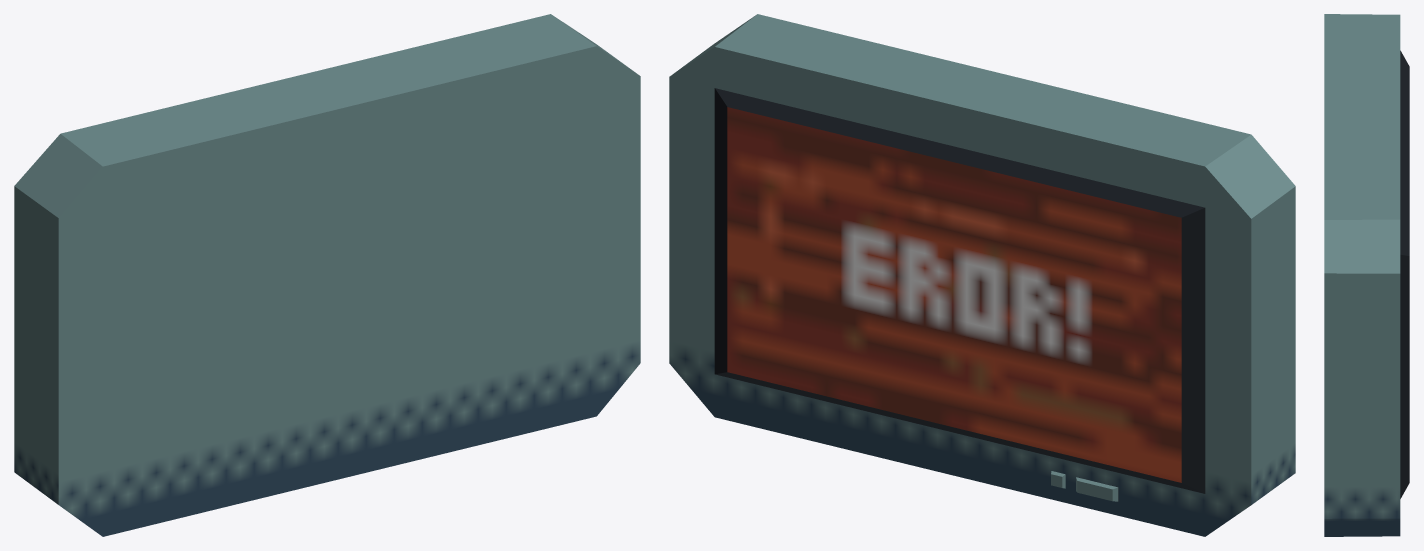
Rendered from monitor.fbx.
3 renders of one model, left to right at view 1: azimuth 30°, elevation 25°; view 2: azimuth 150°, elevation 25°; view 3: azimuth 270°, elevation 25°, orthographic. The views are drawn at different scales.
Visible parts, largest first — view 1: Cube; view 2: Cube; view 3: Cube.
Part boxes in pixels (<box>): Cube: <box>14,14,640,536</box>; Cube: <box>669,14,1295,536</box>; Cube: <box>1324,14,1409,536</box>.
Size of the model in its own units: 181 by 110 by 26.87.
Materials: 1 (1 with a texture image).
